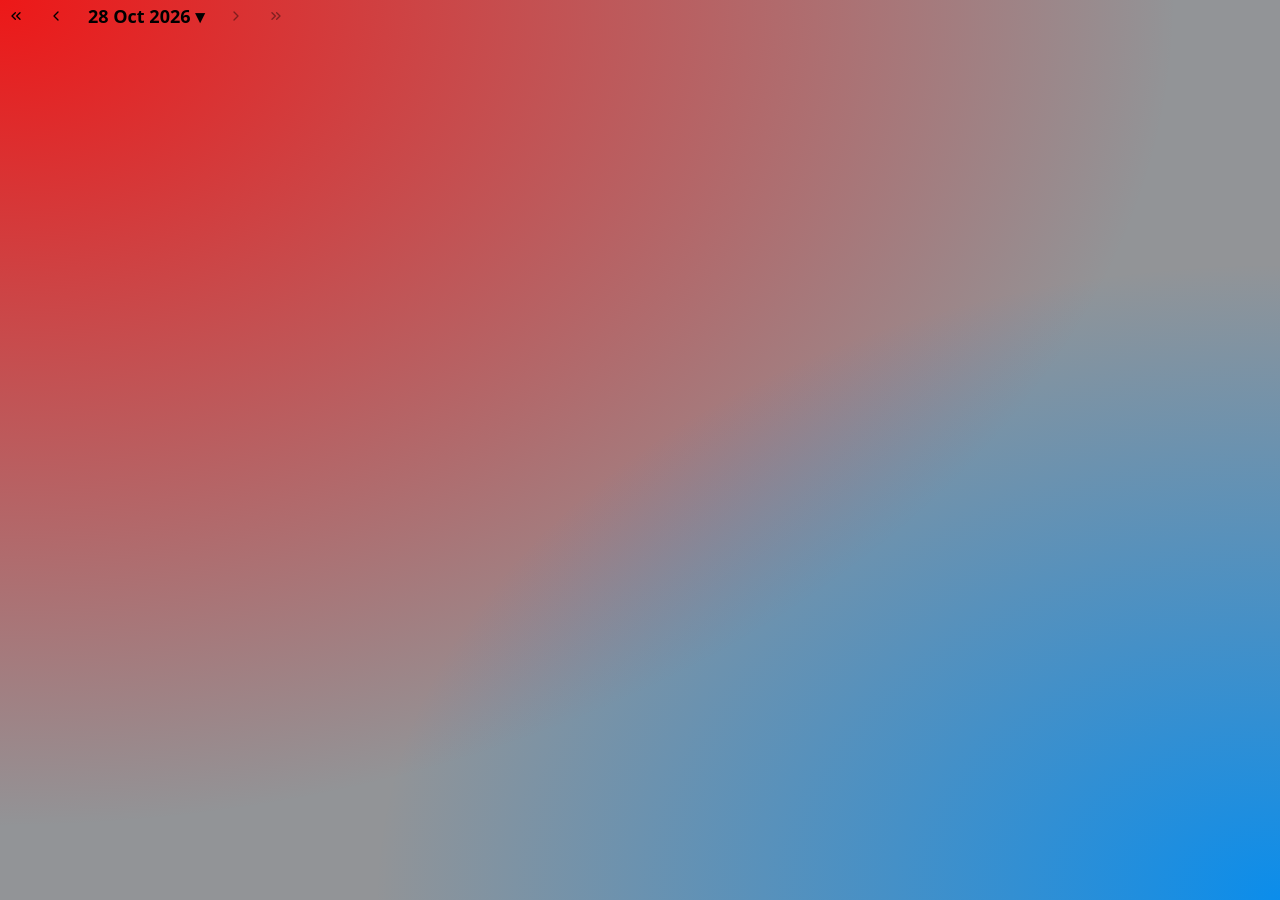
Test case: ExpenseNavigation › closes the popover on an outside click but not an inside one
Step 1. Click the button with aria-label "Pick a date" → (146, 16), box [80,2,212,30]
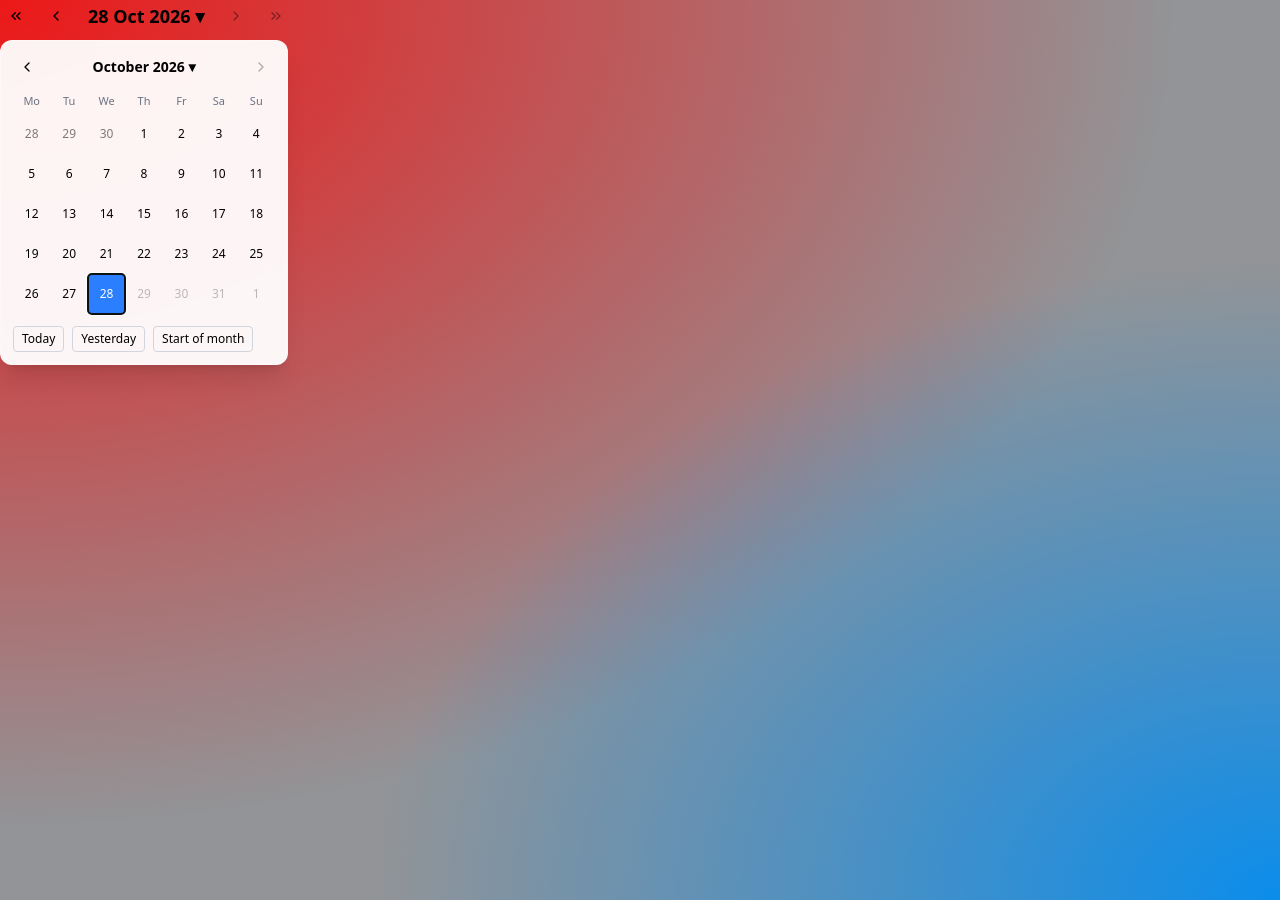
Step 2. Press the mouse on the dialog → (144, 202), box [0,40,288,364]
Now the dialog is shown, box [0,40,288,364]
Step 3. Press the mouse on the element that starts with "28 Oct 2026" → (640, 450), box [0,0,1279,899]
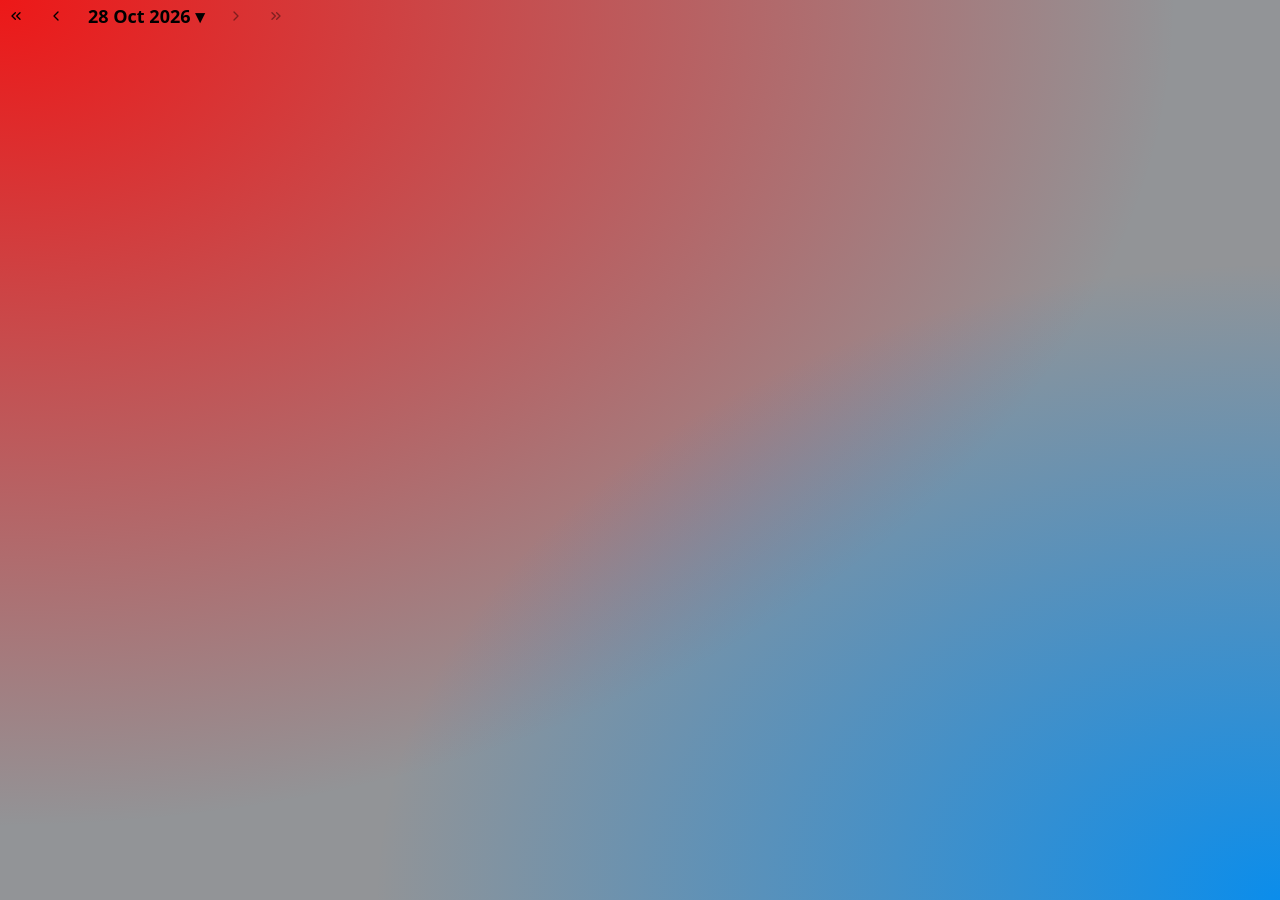
Now the dialog is gone
